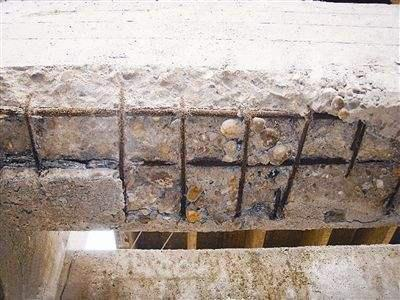Exposed reinforcement: (1, 107, 342, 121), (1, 156, 389, 168), (280, 109, 314, 213), (234, 113, 252, 220), (23, 91, 42, 169), (344, 119, 367, 179), (118, 88, 127, 218), (179, 96, 187, 222), (268, 187, 282, 221)
Spalling: (1, 66, 400, 224)
